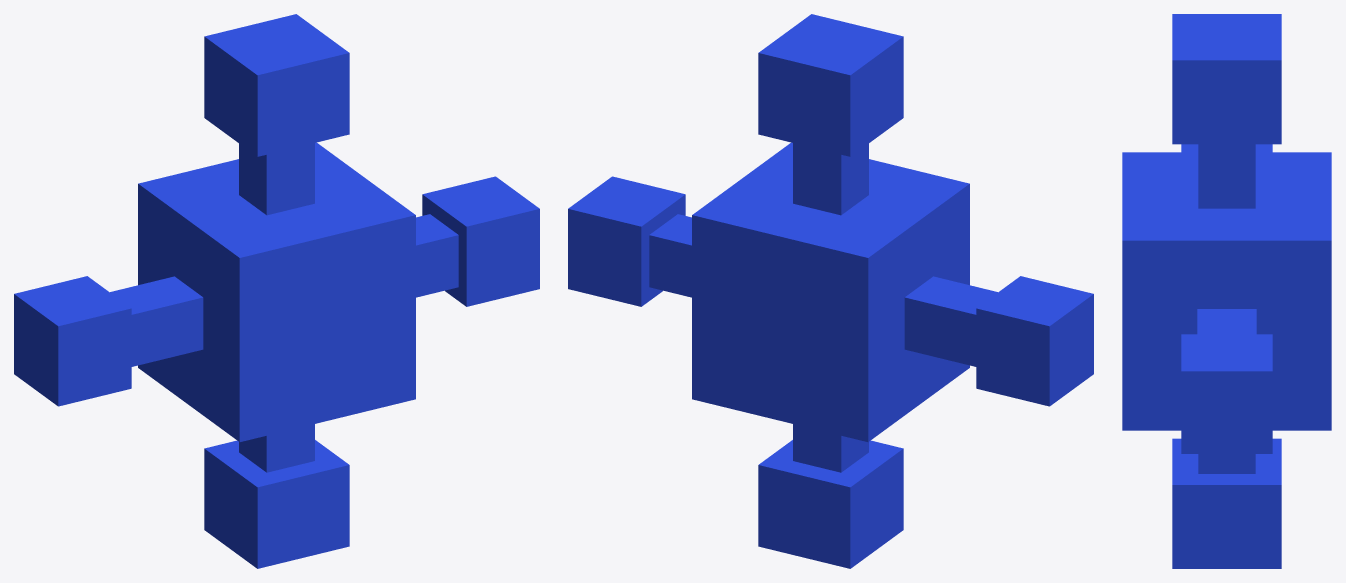
File: enemy.fbx
3 views of the same model, side by side, from view 1: azimuth 30°, elevation 25°; view 2: azimuth 150°, elevation 25°; view 3: azimuth 270°, elevation 25° (orthographic). The views are drawn at different scales.
Parts seen in each view (by area): view 1: king; view 2: king; view 3: king.
Part boxes in pixels (x1,y1,x2,y2): king: (14, 14, 539, 568); king: (568, 14, 1093, 568); king: (1122, 14, 1331, 568).
Bounding box in the file's own units: 8.67 × 8.49 × 3.17.
1 material, 1 textured.
